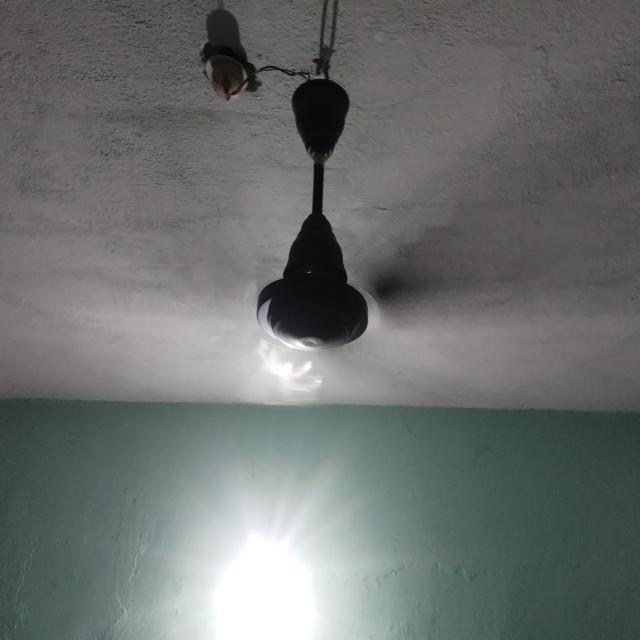fan_on: (177, 67, 523, 353)
